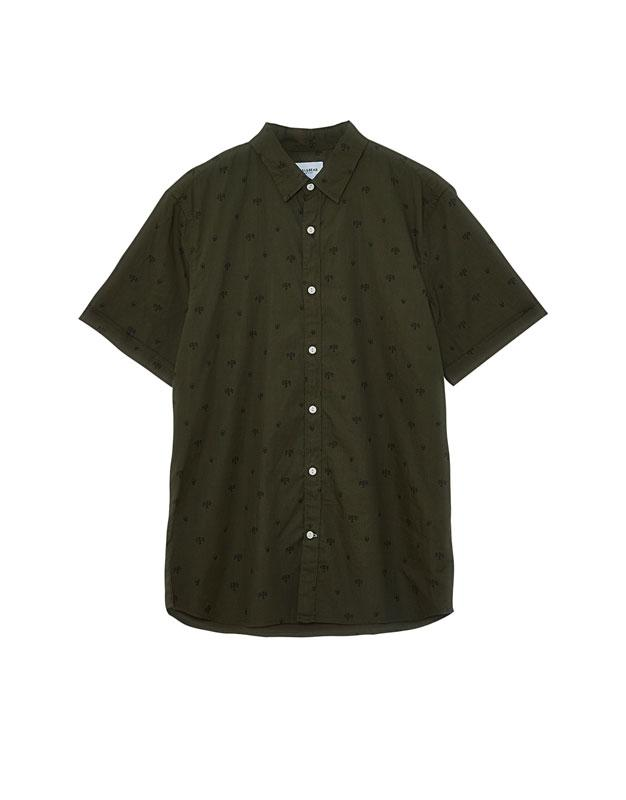teeshirt: (70, 116, 559, 667)
